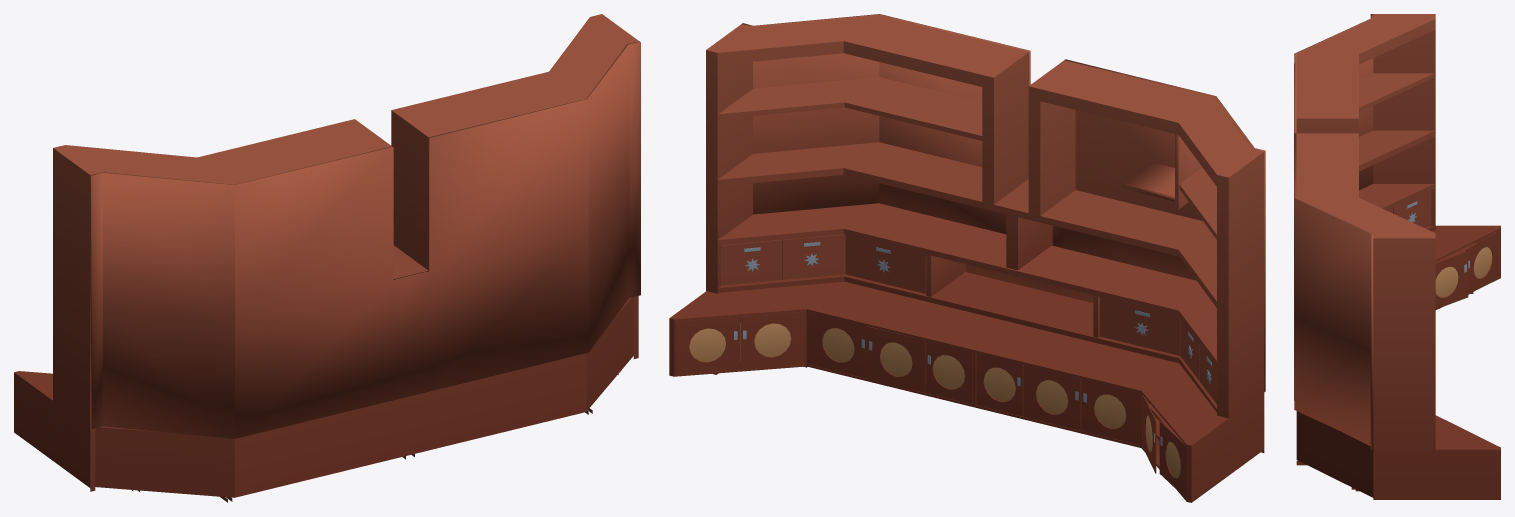
The model's file is SM_Counter.fbx.
3 renders of one model, left to right at view 1: azimuth 30°, elevation 25°; view 2: azimuth 150°, elevation 25°; view 3: azimuth 270°, elevation 25°, orthographic. The views are drawn at different scales.
Visible parts, largest first — view 1: Cube.001; view 2: Cube.001; view 3: Cube.001.
Boxes of the visible parts, x1=… form: Cube.001: x1=14, y1=14, x2=640, y2=502; Cube.001: x1=669, y1=14, x2=1265, y2=502; Cube.001: x1=1294, y1=14, x2=1500, y2=499.
Bounding box in the file's own units: 417 × 230 × 163.
